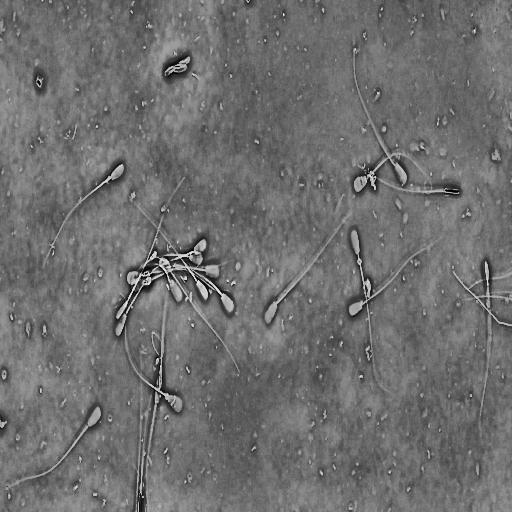coiled-tail: (366, 154, 432, 194)
dirt-particles: (162, 52, 193, 81), (366, 166, 380, 194), (35, 75, 43, 91)
loose-tail: (450, 266, 512, 333)
normal: (263, 209, 353, 328), (116, 177, 185, 320), (40, 160, 125, 276), (158, 257, 240, 374), (351, 29, 409, 187), (4, 403, 103, 495), (347, 232, 445, 318), (129, 195, 209, 300), (119, 294, 182, 415), (348, 229, 392, 398), (133, 238, 206, 301), (149, 262, 234, 312), (355, 160, 462, 198), (352, 151, 434, 197)
proximal-droplet: (357, 257, 362, 265), (106, 175, 111, 182), (165, 393, 169, 400)
